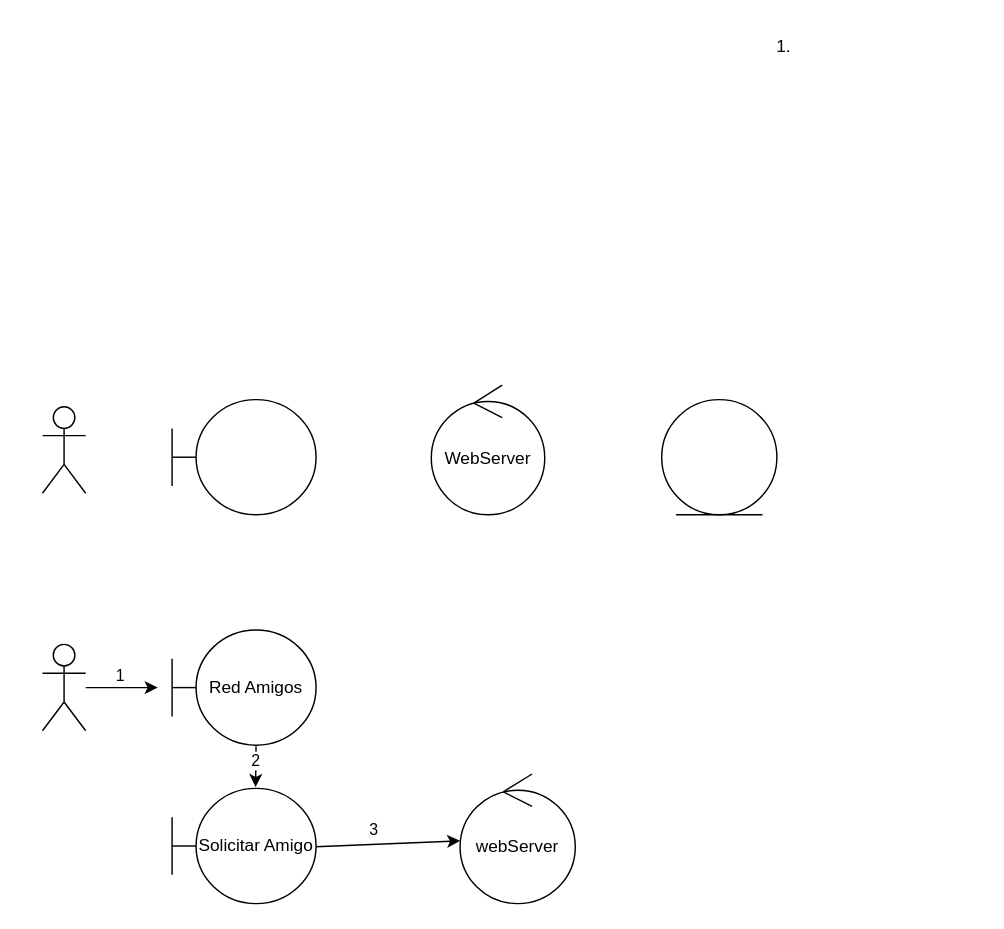
This 1004x929 diagram has some shape labels left out. The centre of each missing label's shape, as x and y in pixels:
"USUARIO" goes at (63,687).
"Usuraio" goes at (63,449).
